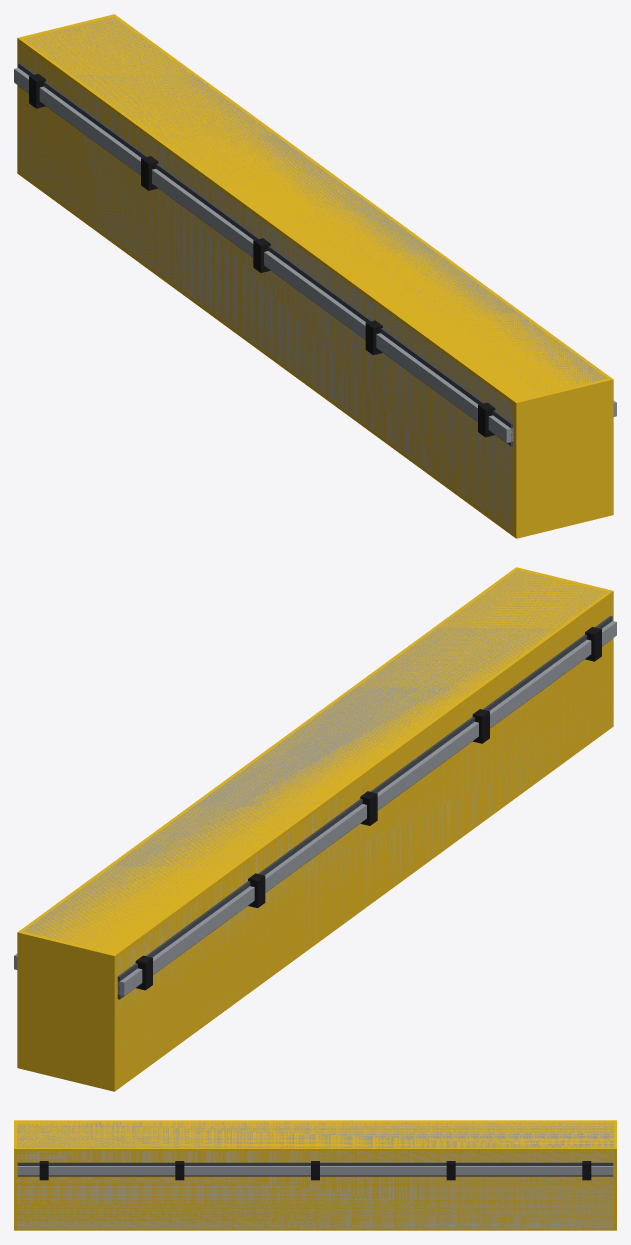
The model's file is rail_beam_8.glb.
3 renders of one model, top to bottom at view 1: azimuth 30°, elevation 25°; view 2: azimuth 150°, elevation 25°; view 3: azimuth 270°, elevation 25°, orthographic. The views are drawn at different scales.
Parts seen in each view (by area): view 1: rail_beam_8__col, rail_beam_8__shell; view 2: rail_beam_8__col, rail_beam_8__shell; view 3: rail_beam_8__col, rail_beam_8__shell.
Boxes of the visible parts, x1,y1,x2,y2 form: rail_beam_8__col: [17, 14, 613, 538]; rail_beam_8__shell: [14, 17, 616, 533]; rail_beam_8__col: [17, 567, 613, 1091]; rail_beam_8__shell: [14, 570, 616, 1079]; rail_beam_8__col: [14, 1120, 616, 1230]; rail_beam_8__shell: [17, 1121, 613, 1228].
Bounding box in the file's own units: 1.08 × 1.2 × 8.
1 material, 1 textured.
